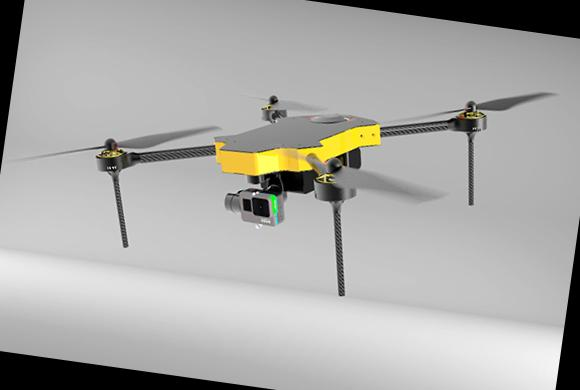drone: (33, 31, 564, 316)
